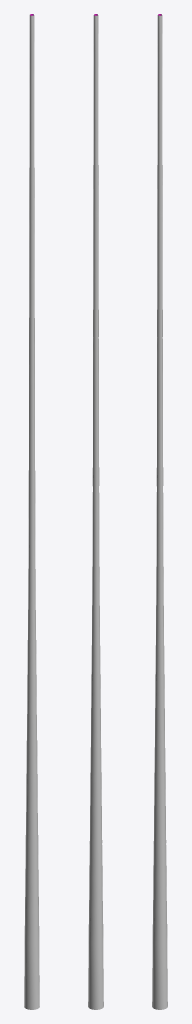
The model's file is env_bosstrain_lavastream01.fbx.
The picture shows the model from 3 angles, left to right: view 1: azimuth 30°, elevation 25°; view 2: azimuth 150°, elevation 25°; view 3: azimuth 330°, elevation 25°; orthographic projection.
Visible parts, largest first — view 1: LavaStream_01; view 2: LavaStream_01; view 3: LavaStream_01.
Boxes of the visible parts, x1=… form: LavaStream_01: x1=24, y1=14, x2=39, y2=1009; LavaStream_01: x1=88, y1=14, x2=103, y2=1009; LavaStream_01: x1=152, y1=14, x2=167, y2=1009.
Size of the model in its own units: 40.45 by 2841 by 40.45.
